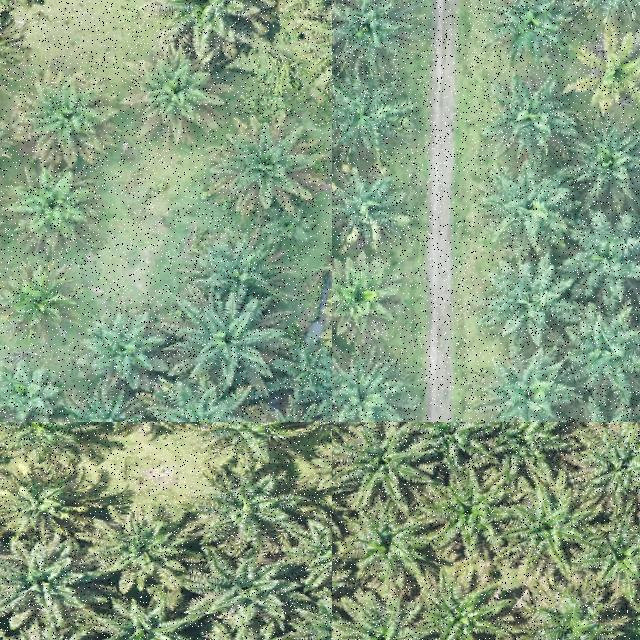Ganoderma: (581, 41, 640, 98)
